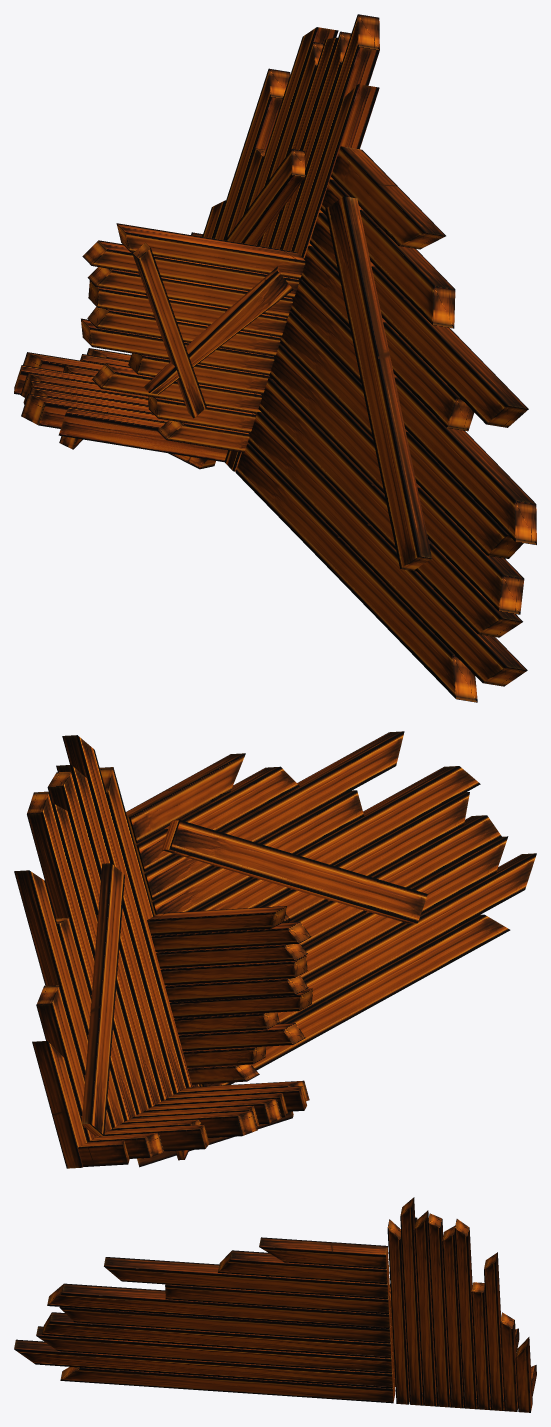
File: broken wagon.fbx
The picture shows the model from 3 angles, top to bottom: view 1: azimuth 30°, elevation 25°; view 2: azimuth 150°, elevation 25°; view 3: azimuth 270°, elevation 25°; orthographic projection. The views are drawn at different scales.
Visible parts, largest first — view 1: wall27; view 2: wall27; view 3: wall27.
Part boxes in pixels (x1,y1,x2,y2): wall27: (14,14,536,702); wall27: (14,731,536,1168); wall27: (14,1197,536,1412).
Bounding box in the file's own units: 258 × 325 × 631.
